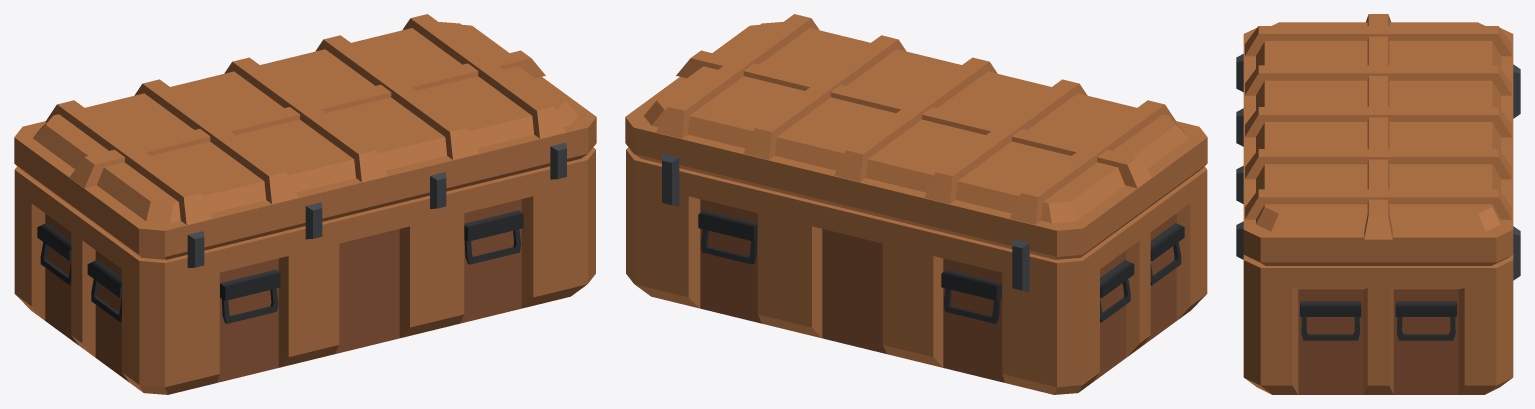
File: SM_Prop_Crate_Plastic_01.fbx
3 renders of one model, left to right at view 1: azimuth 30°, elevation 25°; view 2: azimuth 150°, elevation 25°; view 3: azimuth 270°, elevation 25°, orthographic. The views are drawn at different scales.
Visible parts, largest first — view 1: SM_Prop_Crate_Plastic_Lid_01, SM_Prop_Crate_Plastic_01; view 2: SM_Prop_Crate_Plastic_Lid_01, SM_Prop_Crate_Plastic_01; view 3: SM_Prop_Crate_Plastic_Lid_01, SM_Prop_Crate_Plastic_01.
Part boxes in pixels (box(x1,y1,x2,y2)): SM_Prop_Crate_Plastic_Lid_01: box(14, 14, 596, 267); SM_Prop_Crate_Plastic_01: box(14, 147, 595, 394); SM_Prop_Crate_Plastic_Lid_01: box(625, 14, 1207, 259); SM_Prop_Crate_Plastic_01: box(626, 147, 1207, 394); SM_Prop_Crate_Plastic_Lid_01: box(1236, 14, 1513, 265); SM_Prop_Crate_Plastic_01: box(1243, 64, 1520, 394).
Bounding box in the file's own units: 146 × 58.2 × 81.93.
